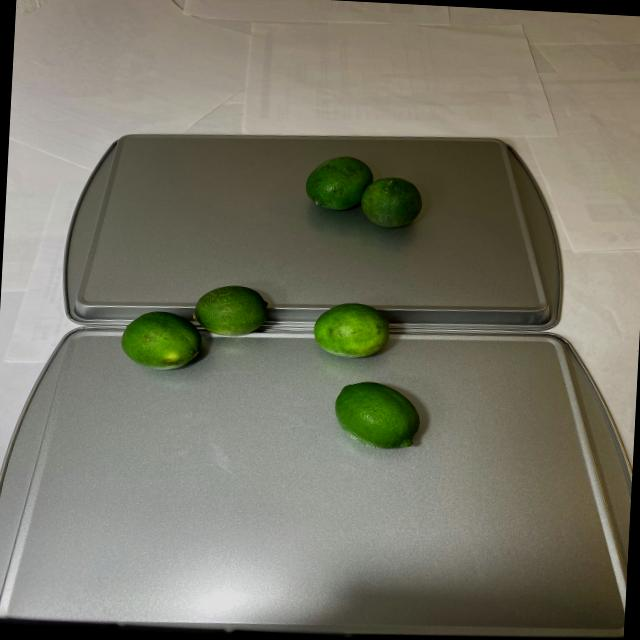lemon: (119, 280, 430, 457), (292, 154, 433, 235)
